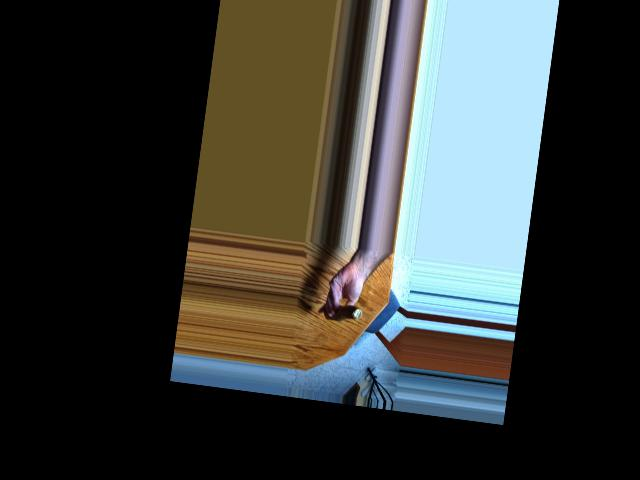sweet_potato: (322, 307, 358, 324)
